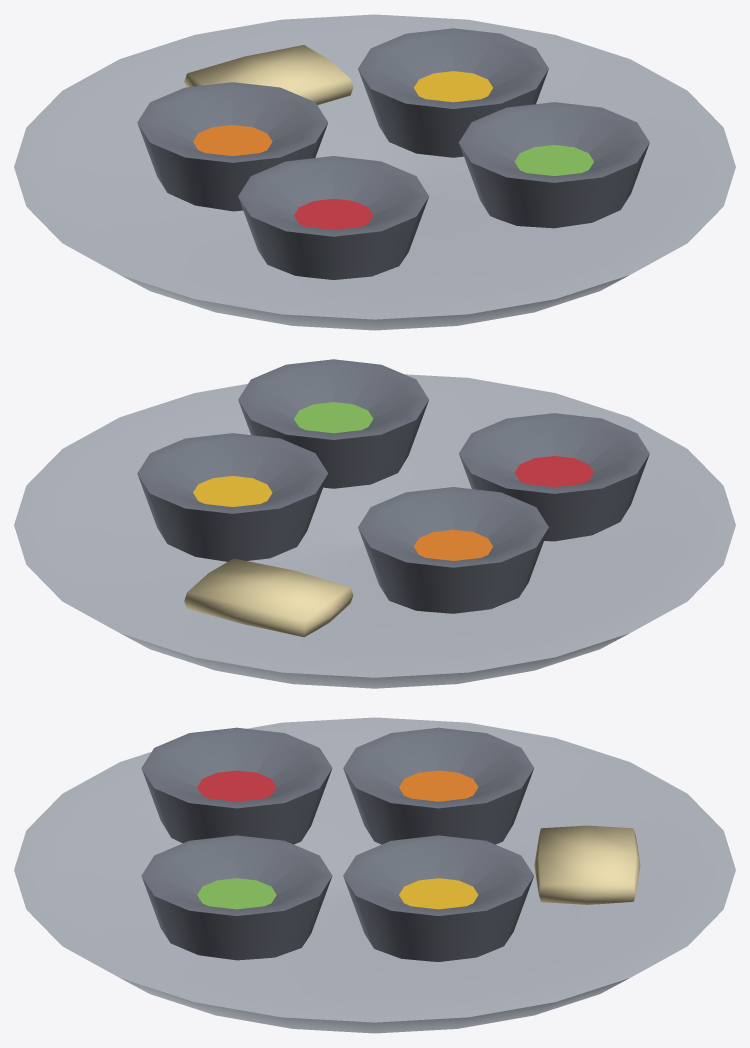
Rendered from thali.glb.
3 views of the same model, one above another, from view 1: azimuth 30°, elevation 25°; view 2: azimuth 150°, elevation 25°; view 3: azimuth 270°, elevation 25° (orthographic).
Visible parts, largest first — view 1: root; view 2: root; view 3: root.
Part boxes in pixels (x1=…): root: x1=14, y1=14, x2=735, y2=330; root: x1=14, y1=359, x2=735, y2=688; root: x1=14, y1=717, x2=735, y2=1033.
Size of the model in its own units: 0.68 by 0.09 by 0.68.
